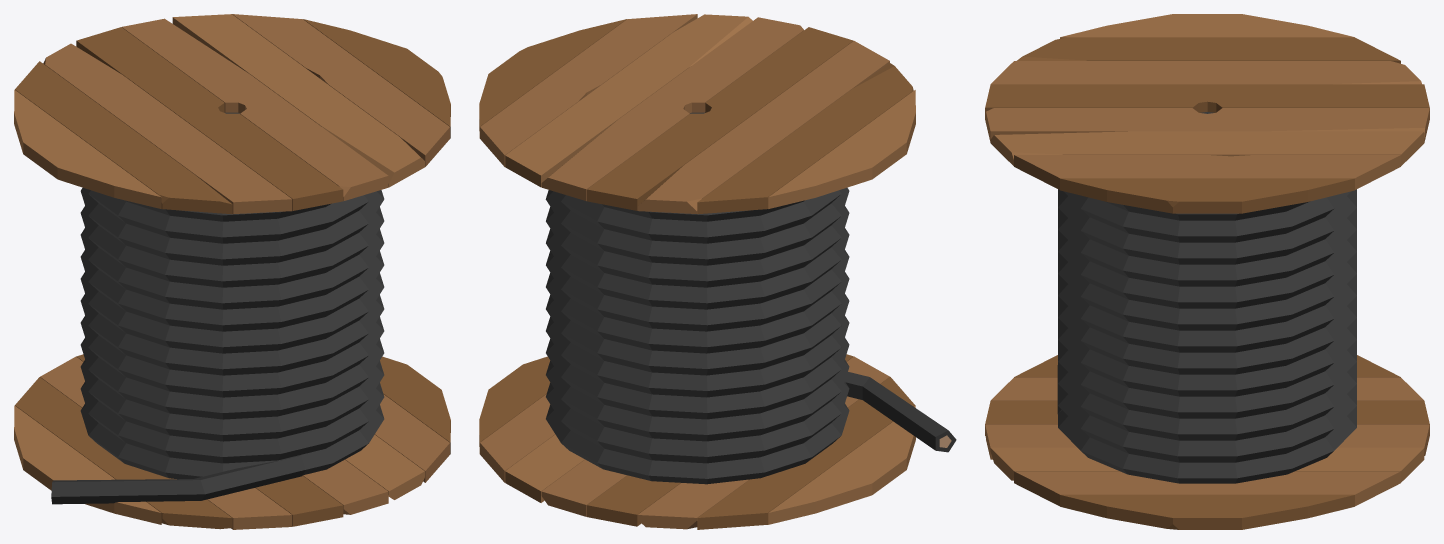
The model's file is SM_IndustrialProps_Construction_01.fbx.
3 views of the same model, side by side, from view 1: azimuth 30°, elevation 25°; view 2: azimuth 150°, elevation 25°; view 3: azimuth 270°, elevation 25° (orthographic).
Parts seen in each view (by area): view 1: SM_IndustrialProps_Construction_01; view 2: SM_IndustrialProps_Construction_01; view 3: SM_IndustrialProps_Construction_01.
Boxes of the visible parts, x1,y1,x2,y2 form: SM_IndustrialProps_Construction_01: (14,14,450,529); SM_IndustrialProps_Construction_01: (479,14,956,529); SM_IndustrialProps_Construction_01: (985,14,1429,529).
Size of the model in its own units: 1.69 by 1.28 by 1.58.
